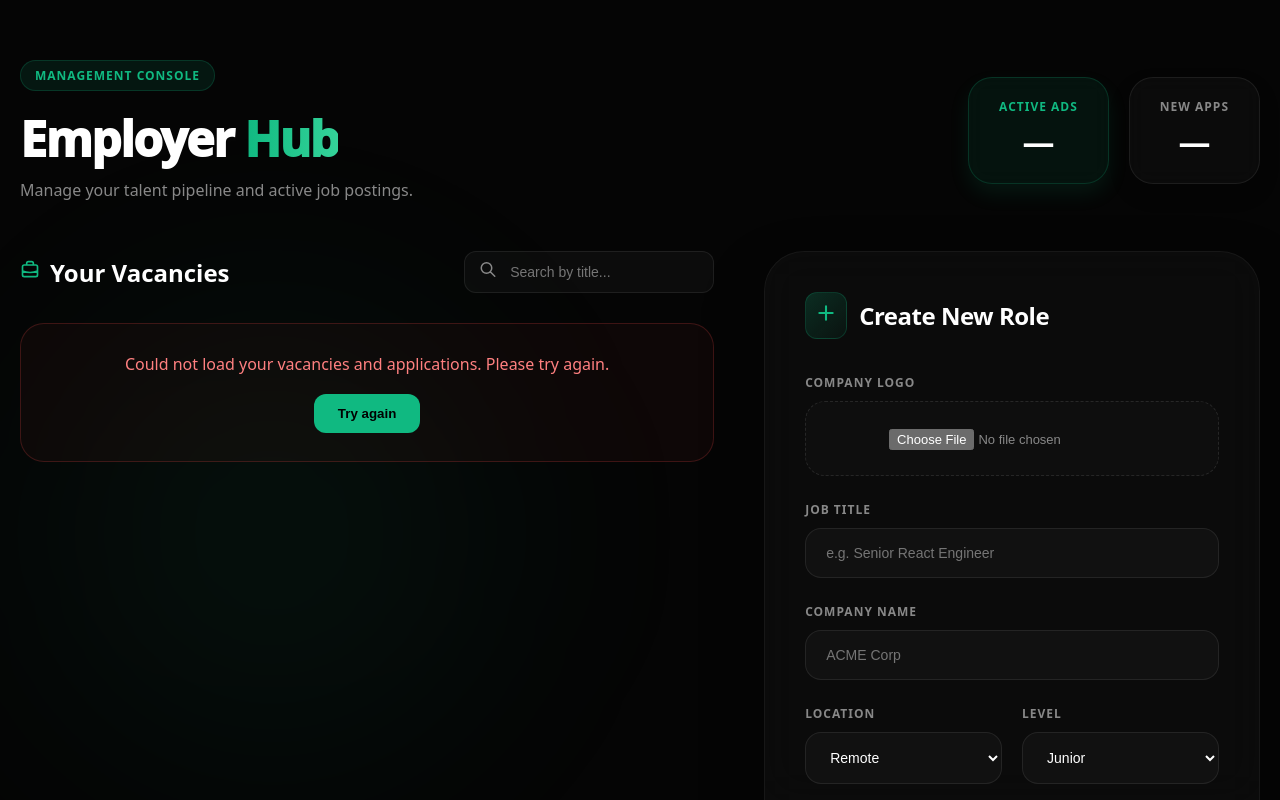
Test: shows a genuine empty state for /jobs/mine only after a successful retry
The image size is (1280, 800).
Expected: the message "Could not load your vacancies and applications. Please try again." is shown, [125, 353, 609, 375]
Expected: the text "No vacancies posted yet" is not shown
Click the button "Try again" at (367, 413), box [314, 394, 420, 433]
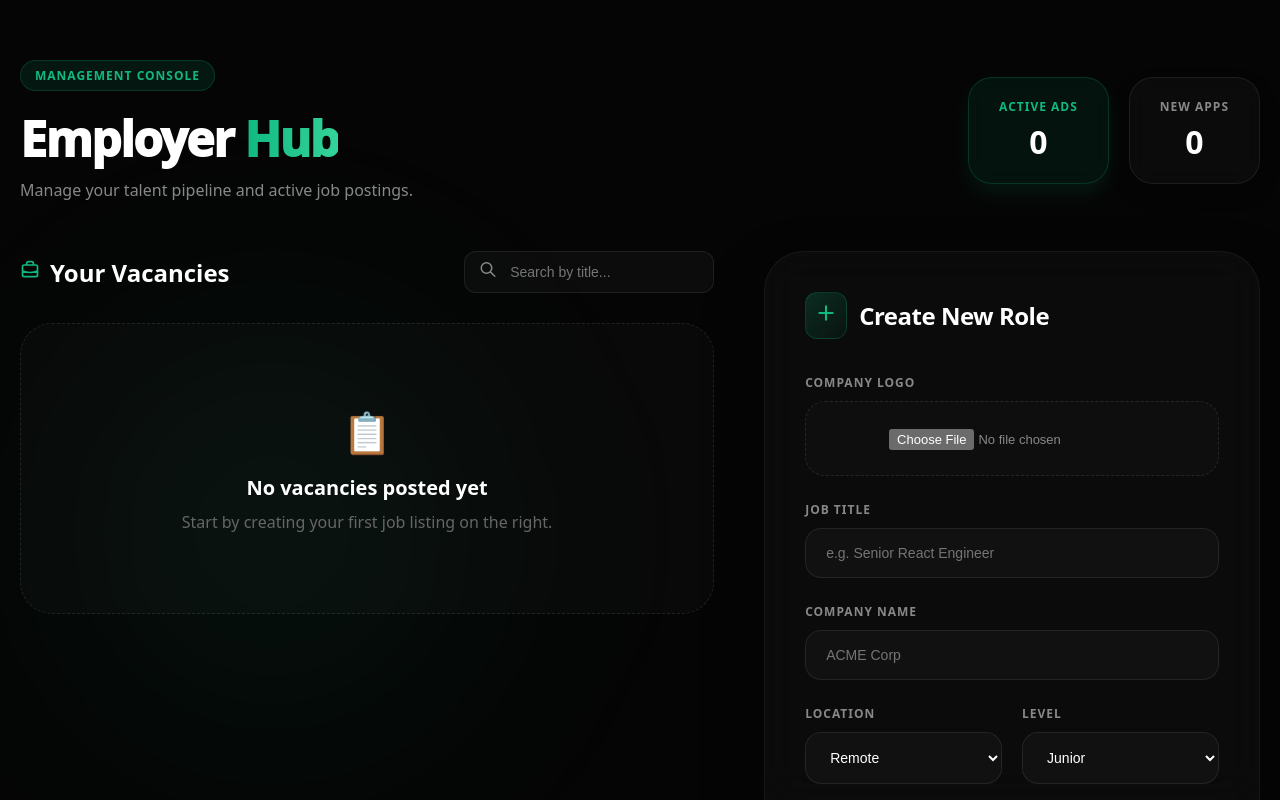
Now the heading "No vacancies posted yet" is shown, box [246, 474, 488, 501]
Now the message "Could not load your vacancies and applications. Please try again." is gone
